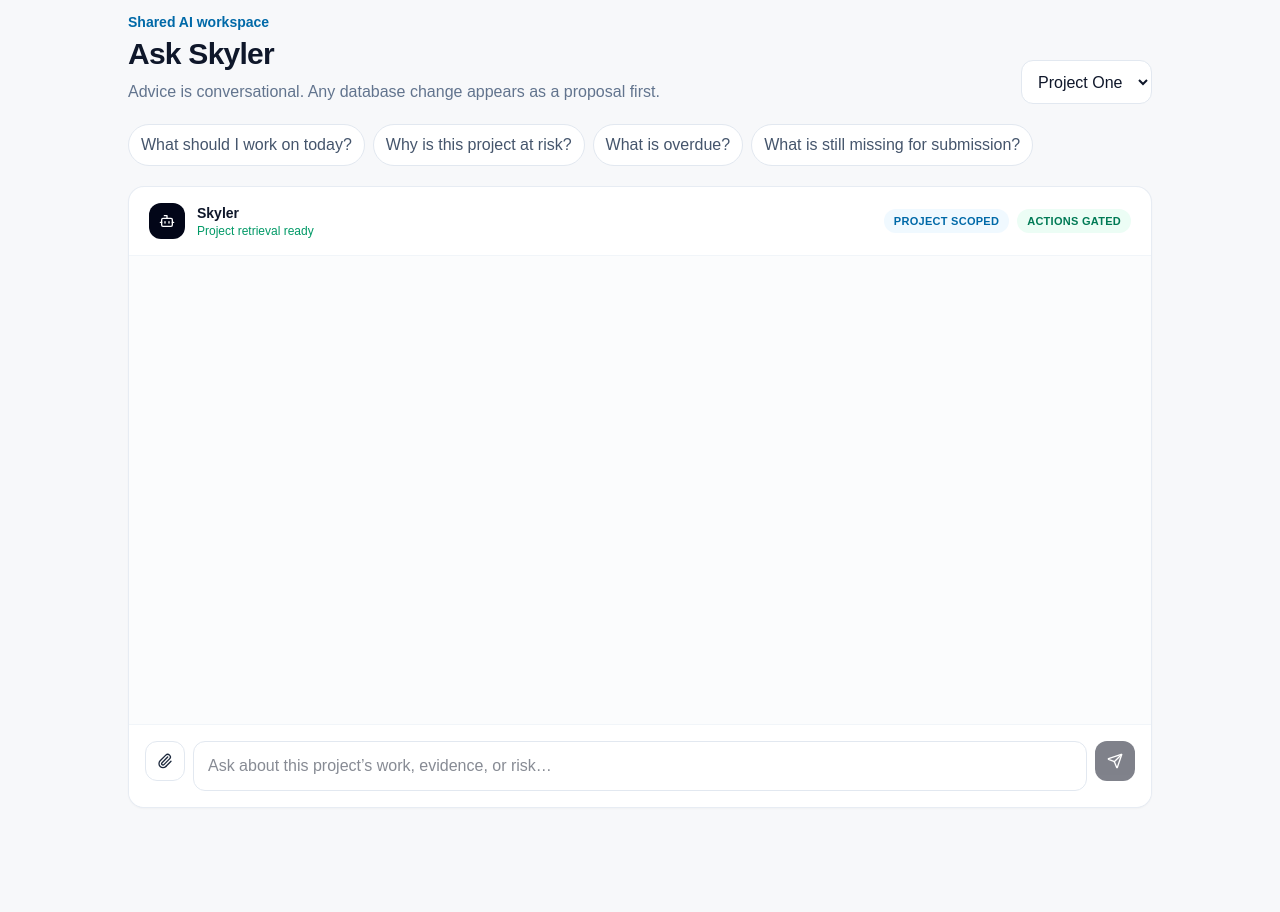
Test: shows a failed send inside the chat instead of throwing to the route boundary
The width and height of the screenshot is (1280, 912).
Type "hello" into the text box named "Message Skyler" at (640, 766), box [193,741,1087,791]
Then press Enter
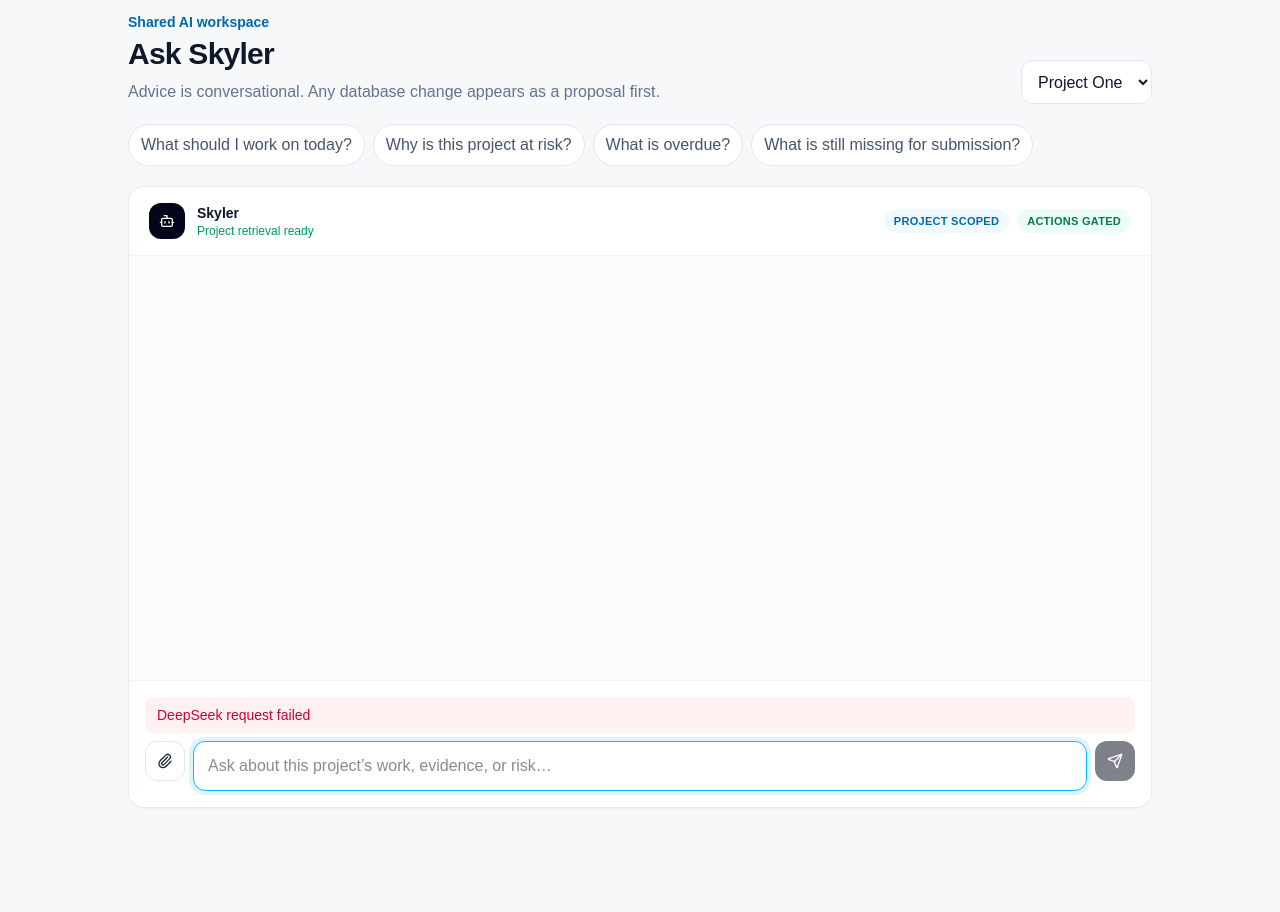
Expected: the heading "Ask Skyler" is shown, [128,37,274,70]
Expected: the message reads "DeepSeek request failed", [157,707,310,723]
